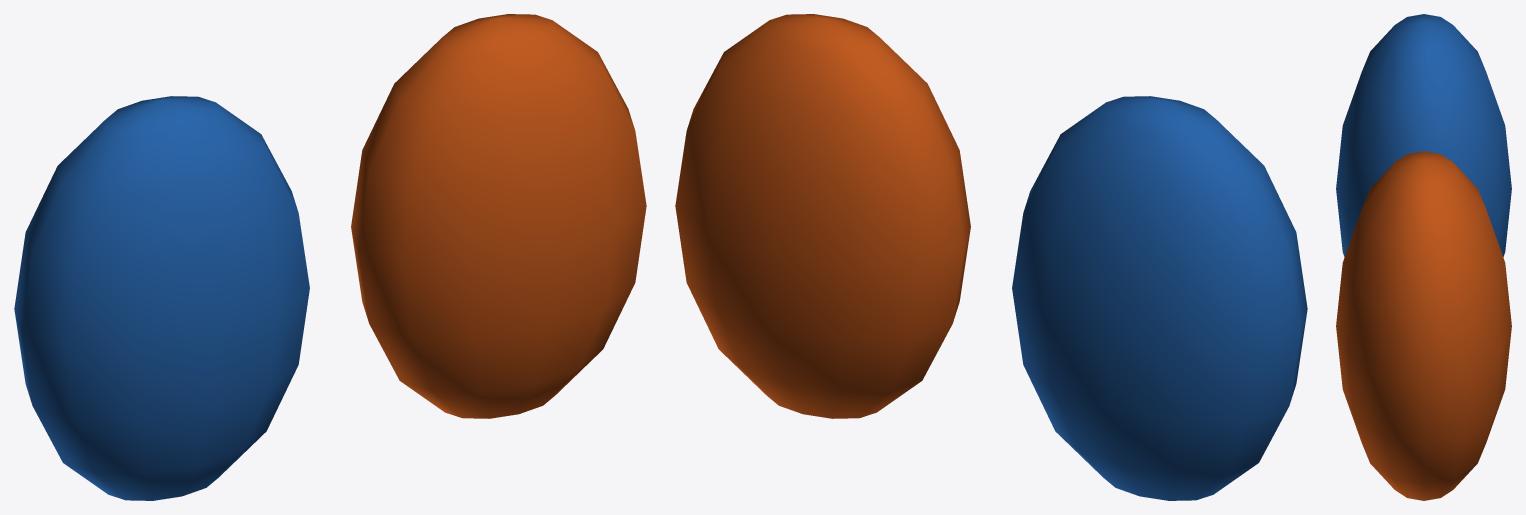
File: morph-b.glb
3 renders of one model, left to right at view 1: azimuth 30°, elevation 25°; view 2: azimuth 150°, elevation 25°; view 3: azimuth 270°, elevation 25°, orthographic. The views are drawn at different scales.
Parts seen in each view (by area): view 1: cortex.left, cortex.right; view 2: cortex.left, cortex.right; view 3: cortex.right, cortex.left.
Part boxes in pixels (left/top/right/bottom): cortex.left: left=14, top=96, right=309, bottom=500; cortex.right: left=351, top=14, right=646, bottom=418; cortex.left: left=1012, top=96, right=1307, bottom=500; cortex.right: left=675, top=14, right=970, bottom=418; cortex.right: left=1336, top=151, right=1511, bottom=500; cortex.left: left=1336, top=14, right=1511, bottom=256.
Bounding box in the file's own units: 4.4 × 2.7 × 1.3.
